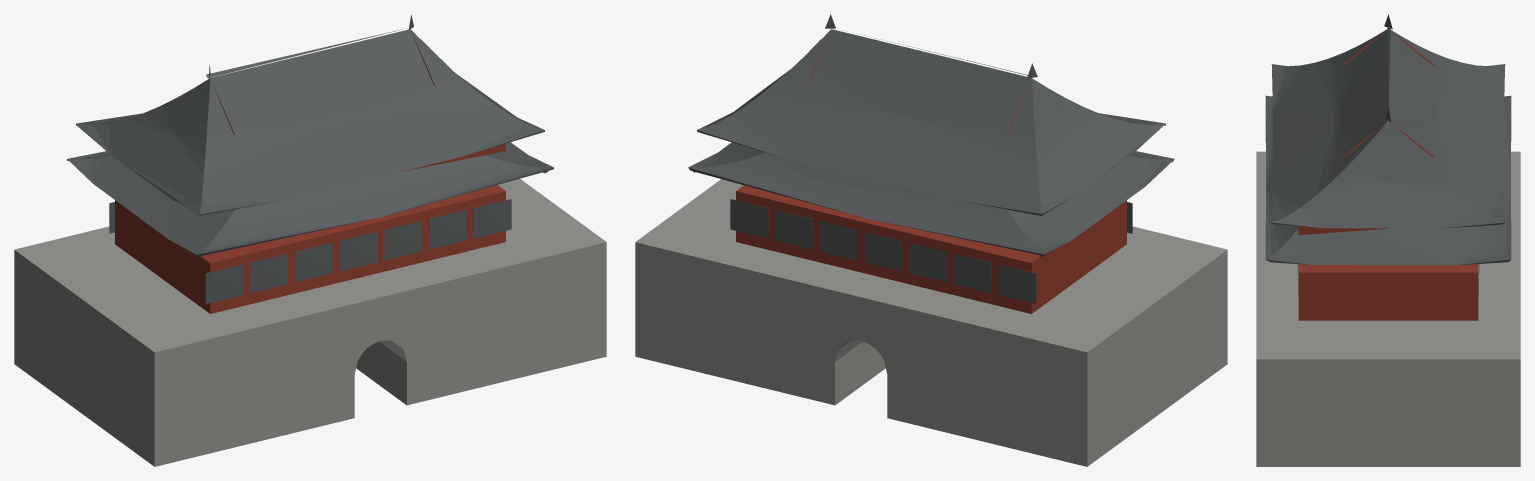
The model's file is jianlou-far-3e8bcfafb4.glb.
3 renders of one model, left to right at view 1: azimuth 30°, elevation 25°; view 2: azimuth 150°, elevation 25°; view 3: azimuth 270°, elevation 25°, orthographic. The views are drawn at different scales.
Visible parts, largest first — view 1: jianlou coarse.001; view 2: jianlou coarse.001; view 3: jianlou coarse.001.
Part boxes in pixels (<box>): jianlou coarse.001: <box>14,15,606,466</box>; jianlou coarse.001: <box>635,14,1227,466</box>; jianlou coarse.001: <box>1256,14,1520,466</box>.
Bounding box in the file's own units: 52 × 35.37 × 28.
